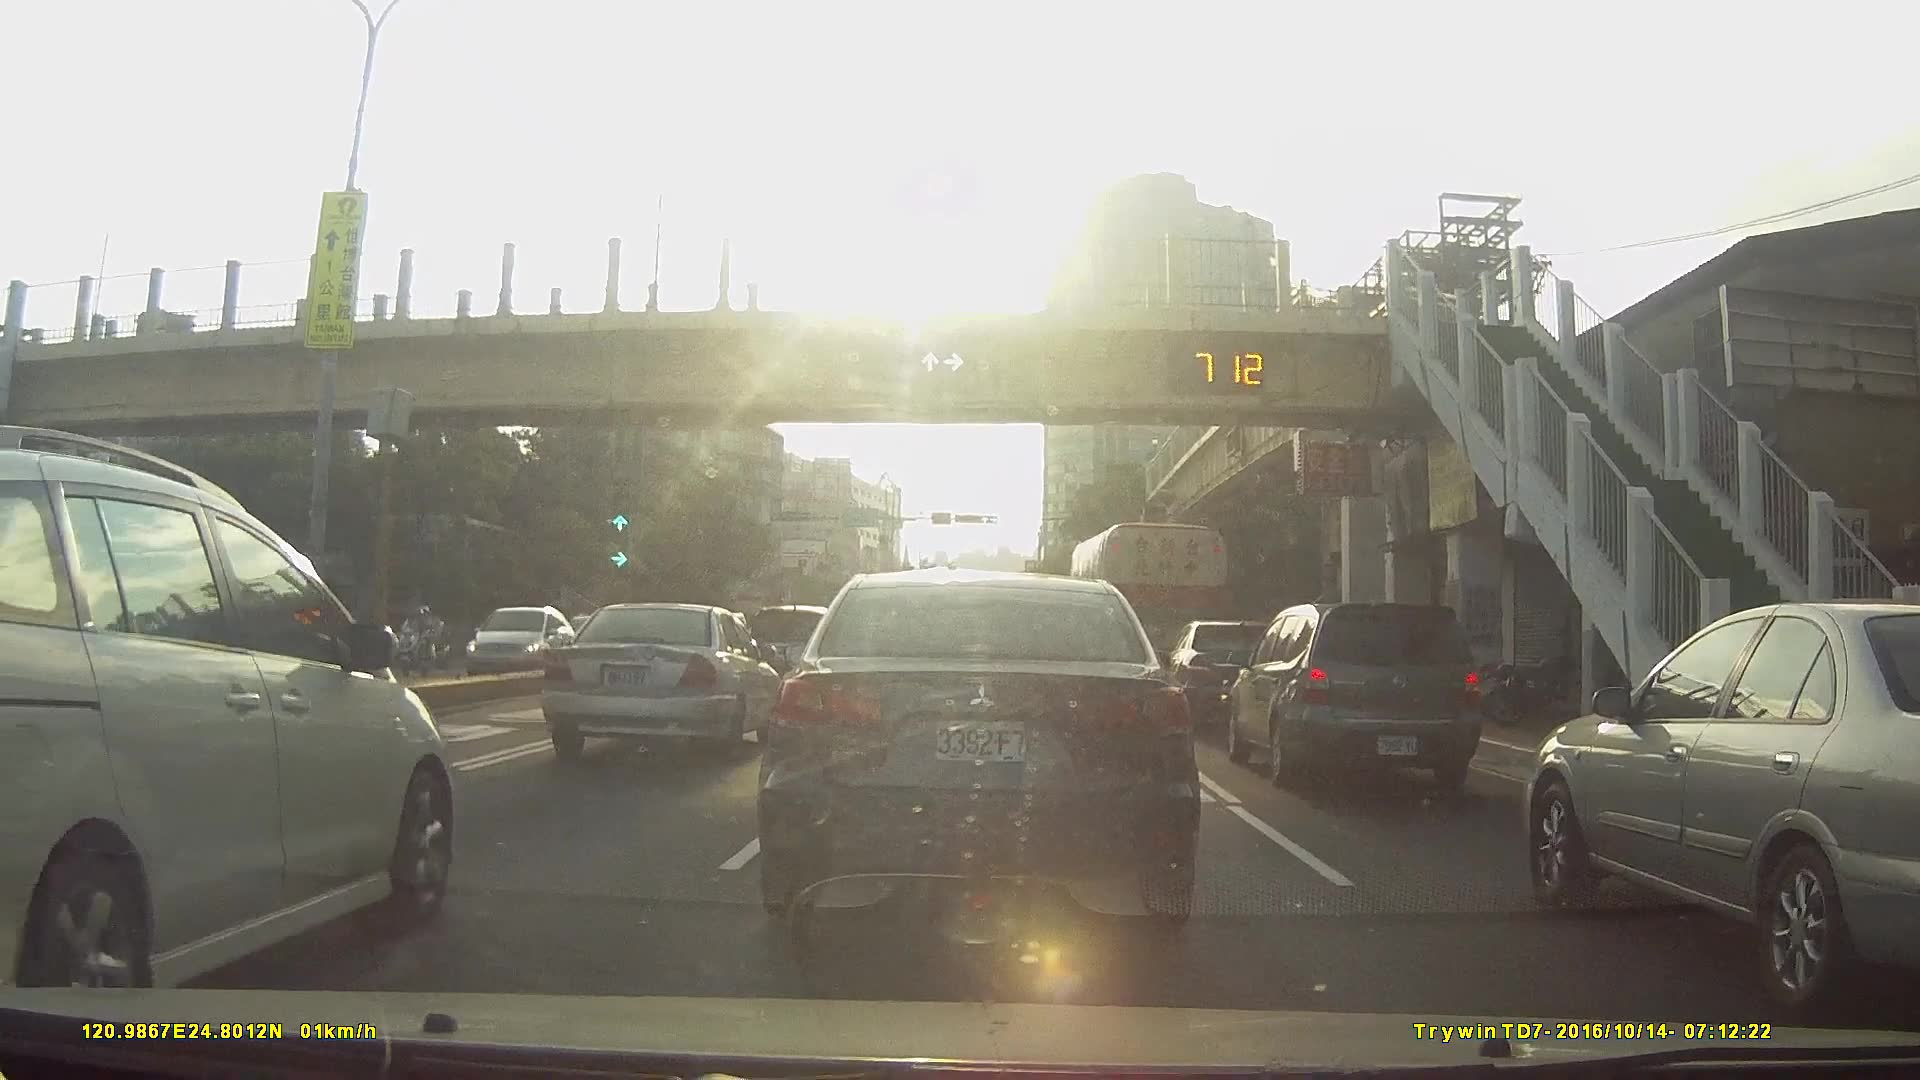rider: (400, 606, 442, 675)
vehicle: (0, 430, 469, 1024), (1526, 595, 1920, 1018), (765, 568, 1199, 938), (1225, 599, 1486, 792), (551, 603, 792, 760), (1164, 620, 1292, 725), (733, 602, 836, 702), (460, 604, 587, 676)
